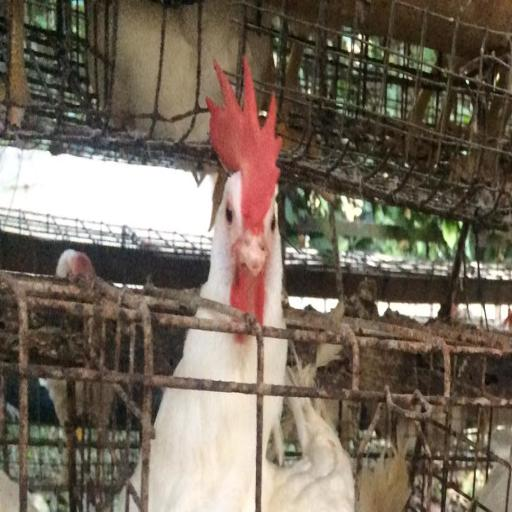healthy: (204, 42, 292, 339)
